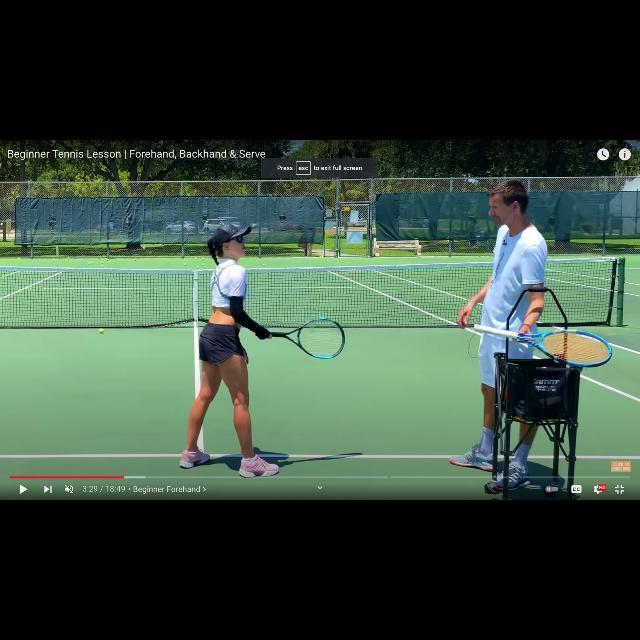tennis-ball: (98, 328, 104, 334)
